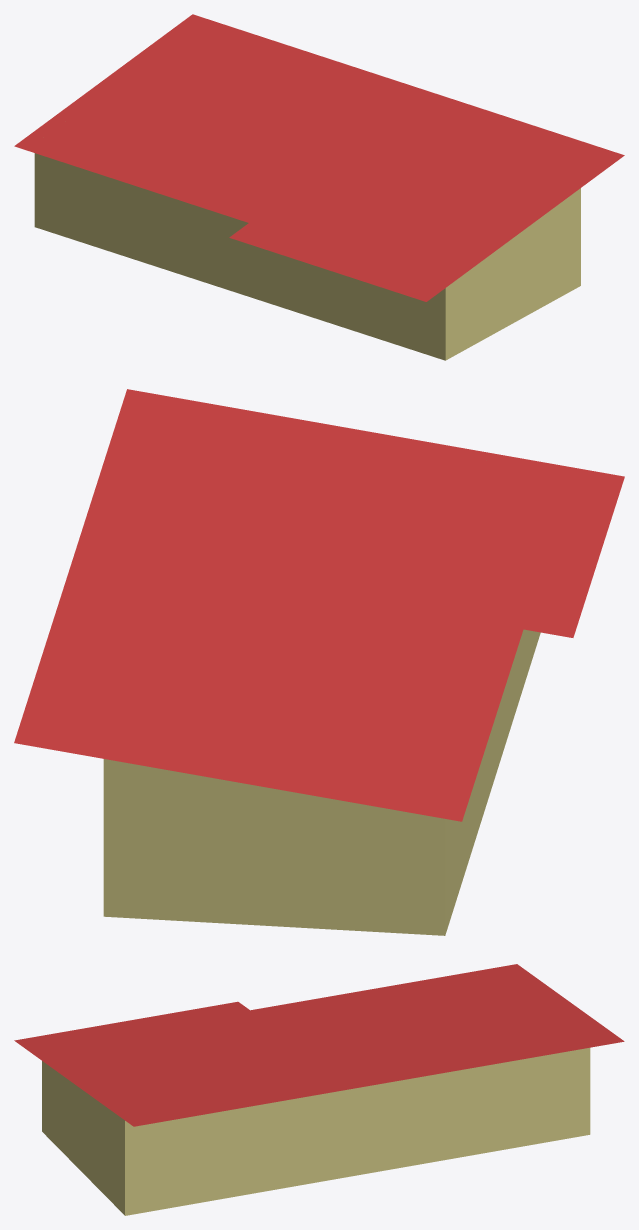
3 renders of one model, top to bottom at view 1: azimuth 30°, elevation 25°; view 2: azimuth 150°, elevation 25°; view 3: azimuth 270°, elevation 25°, orthographic. The views are drawn at different scales.
Size of the model in its own units: 32.25 by 42.43 by 8.6.
